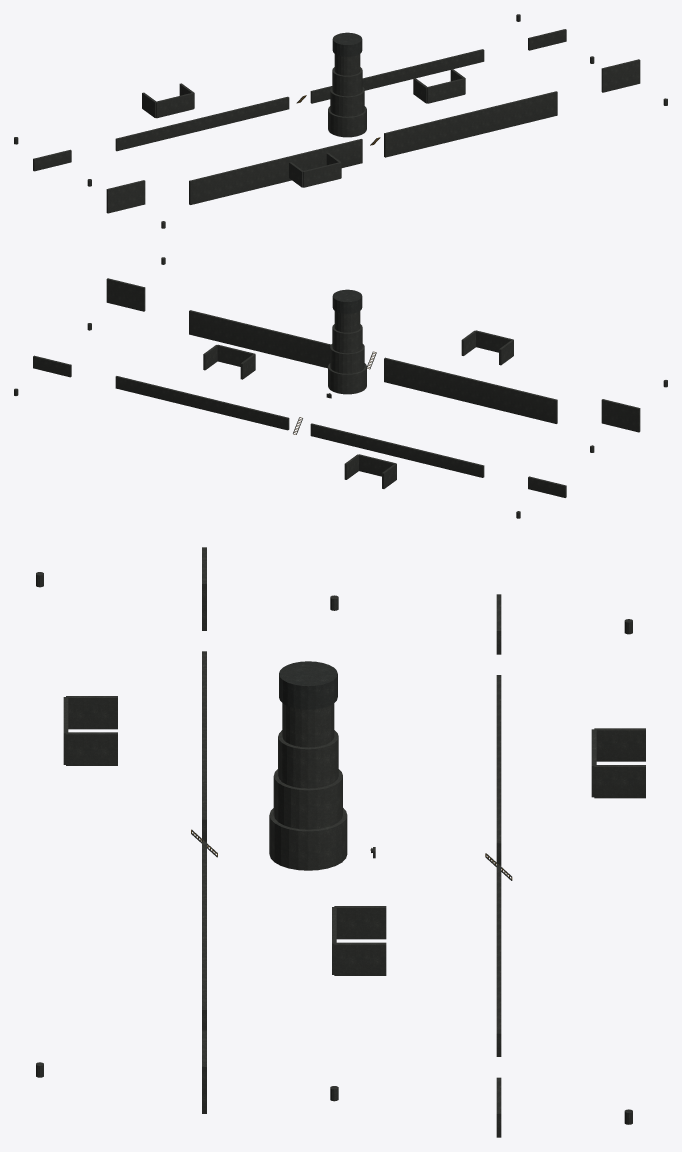
File: v03-environment.glb
3 views of the same model, one above another, from view 1: azimuth 30°, elevation 25°; view 2: azimuth 150°, elevation 25°; view 3: azimuth 270°, elevation 25° (orthographic). The views are drawn at different scales.
Visible parts, largest first — view 1: Environment_stone.014, Environment_iron.014; view 2: Environment_stone.014, Environment_iron.014; view 3: Environment_stone.014, Environment_iron.014.
Part boxes in pixels (bbox=[...]): Environment_stone.014: bbox=[14, 14, 667, 228]; Environment_iron.014: bbox=[296, 32, 379, 145]; Environment_stone.014: bbox=[14, 257, 667, 518]; Environment_iron.014: bbox=[293, 289, 376, 434]; Environment_stone.014: bbox=[36, 547, 645, 1137]; Environment_iron.014: bbox=[191, 661, 512, 880].
Size of the model in its own units: 142 by 26 by 70.48.
5 materials, 4 textured.
